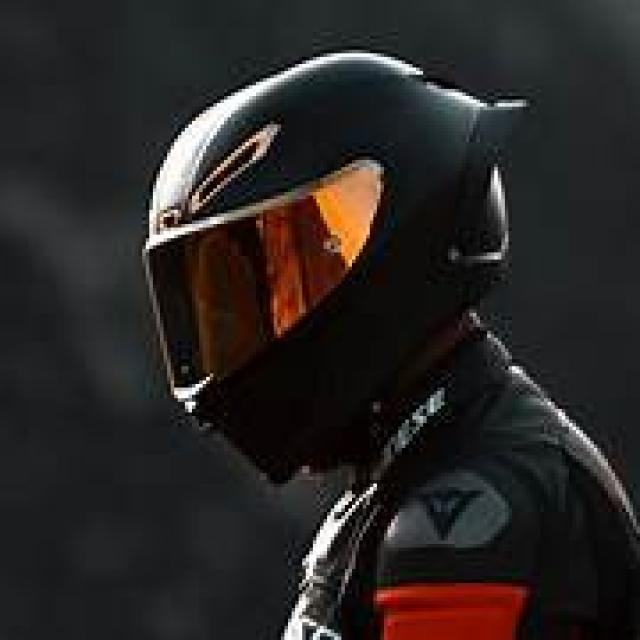helmet: (98, 28, 535, 513)
